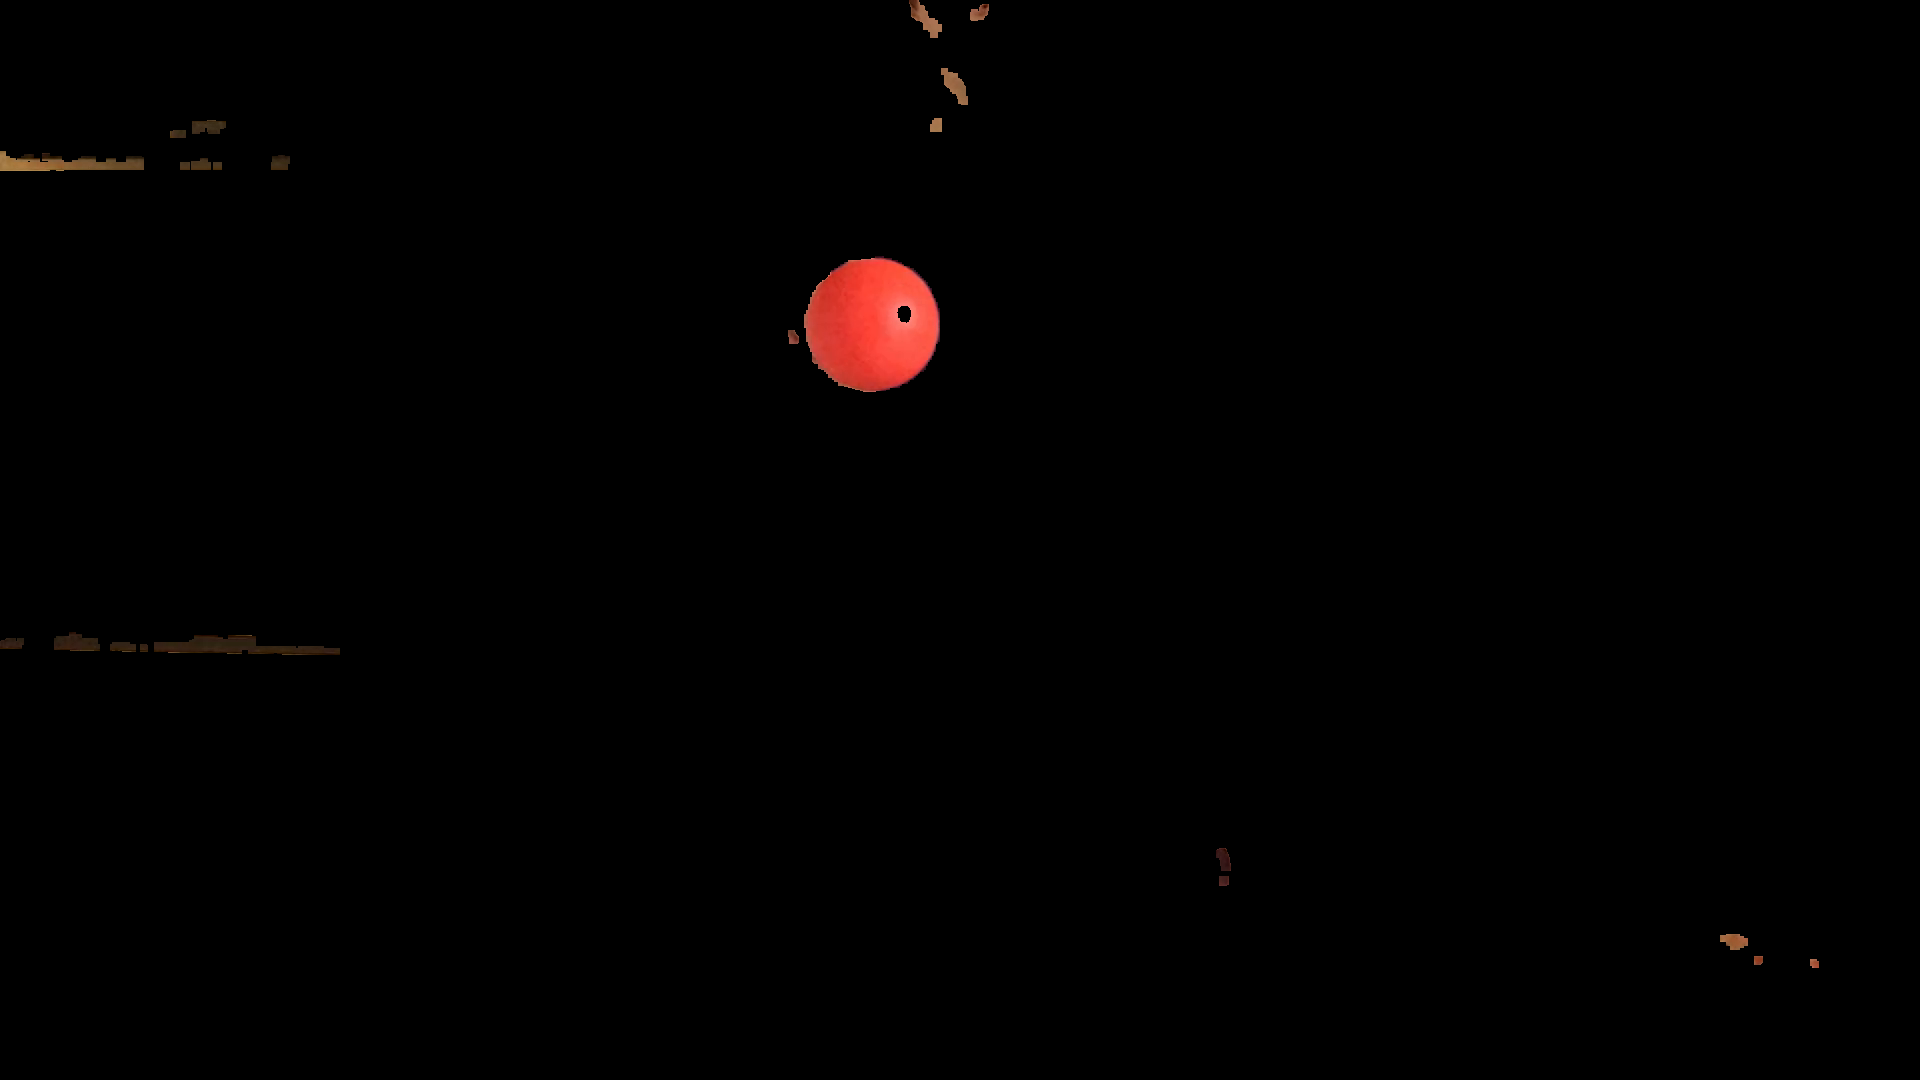Ball: (800, 258, 942, 398)
